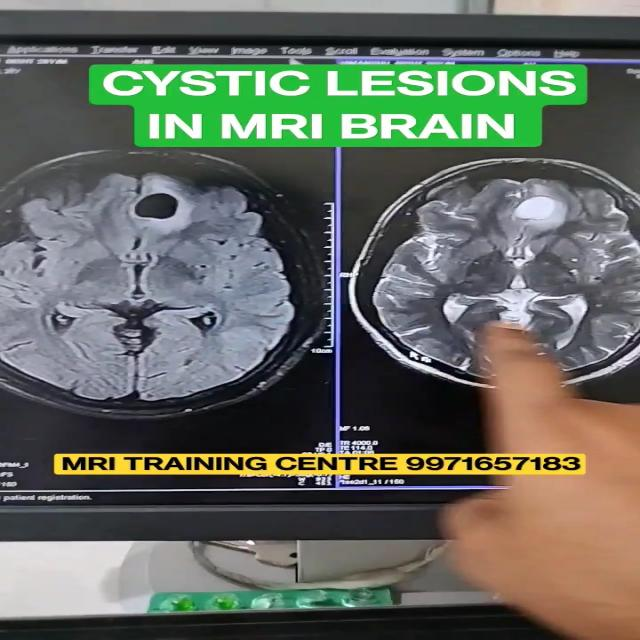tumor: (493, 179, 599, 236), (120, 192, 210, 231)
